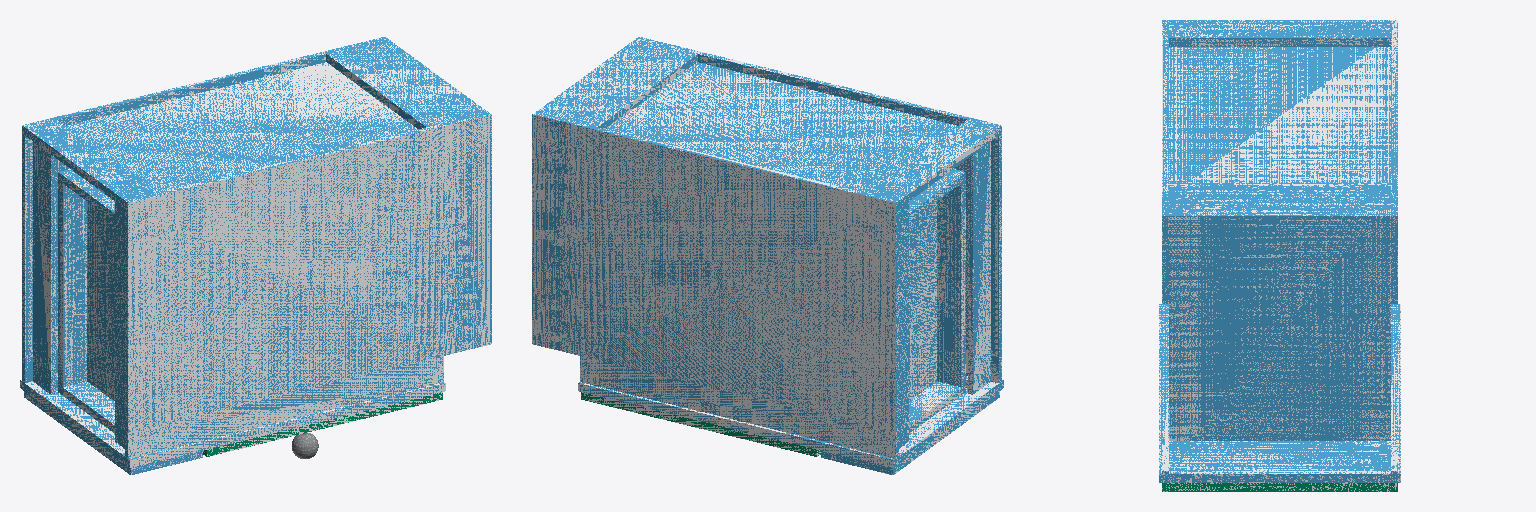
robot.urdf — right-pull-door:
<robot name="right-pull-door">
	<link name="base" />
	<link name="link_0">
		<visual name="out-frame">
			<origin xyz="0 0 0" />
			<geometry>
				<mesh filename="texture_dae/frame.dae" scale="0.7 0.7 0.7" />
			</geometry>
		</visual>
		<collision>
			<origin xyz="0 0 0" />
			<geometry>
				<mesh filename="texture_dae/frame.dae" scale="0.7 0.7 0.7" />
			</geometry>
		</collision>
	</link>
	<joint name="joint_0" type="fixed">
		<origin rpy="1.570796326794897 0 -1.570796326794897" xyz="0 0 0" />
		<child link="link_0" />
		<parent link="base" />
	</joint>
	<link name="link_1">
		<visual name="surf-board">
			<origin xyz="0.4743428409099579 -0.31222322653683754 0" />
			<geometry>
				<mesh filename="texture_dae/board.dae" scale="0.7 0.7 0.7" />
			</geometry>
		</visual>
		<collision>
			<origin xyz="0.4743428409099579 -0.31222322653683754 0" />
			<geometry>
				<mesh filename="texture_dae/board.dae" scale="0.7 0.7 0.7" />
			</geometry>
		</collision>
	</link>
	<joint name="joint_1" type="revolute">
		<origin xyz="-0.4743428409099579 0.31222322653683754 0" />
		<axis xyz="0 -1 0" />
		<child link="link_1" />
		<parent link="link_0" />
		<limit lower="0" upper="1.5079644737231006" />
	</joint>
	<link name="link_2">
		<visual name="handle">
			<origin xyz="0 0 0" />
			<geometry>
				<mesh filename="texture_dae/9962019.dae" scale="1.525530381046416 1.525530381046416 1.525530381046416" />
			</geometry>
		</visual>
		<collision>
			<origin xyz="0 0 0" />
			<geometry>
				<mesh filename="texture_dae/9962019.dae" scale="1.525530381046416 1.525530381046416 1.525530381046416" />
			</geometry>
		</collision>
	</link>
	<joint name="joint_2" type="revolute">
		<origin xyz="0.4743428409099579 -0.31222322653683754 0.010946742194253194" />
		<child link="link_2" />
		<parent link="link_1" />
		<axis xyz="0 0 1" />
		<limit lower="0" upper="0" />
	</joint>
</robot>

--- What the picture shows (computed from the rendered views, not written in the file) ---
Views: 3 orthographic renders of the robot side by side, from view 1: azimuth 30°, elevation 25°; view 2: azimuth 150°, elevation 25°; view 3: azimuth 270°, elevation 25°.
Model right-pull-door with 4 links and 3 joints (2 revolute, 1 fixed), rooted at base, posed all joints at 0.
Visible links, largest first — view 1: link_0, link_1, link_2; view 2: link_0, link_1; view 3: link_0, link_1.
Boxes of the visible links, x1=… form: link_0: x1=20, y1=37, x2=491, y2=474; link_1: x1=203, y1=392, x2=442, y2=456; link_2: x1=292, y1=433, x2=318, y2=458; link_0: x1=532, y1=37, x2=1003, y2=474; link_1: x1=581, y1=392, x2=820, y2=456; link_0: x1=1159, y1=20, x2=1400, y2=482; link_1: x1=1162, y1=483, x2=1397, y2=491.
Bounding box of the posed robot: 1.02 × 0.5311 × 0.8227 m (x, y, z).
3 mesh visuals loaded from 3 distinct referenced files (3 Collada DAE).
